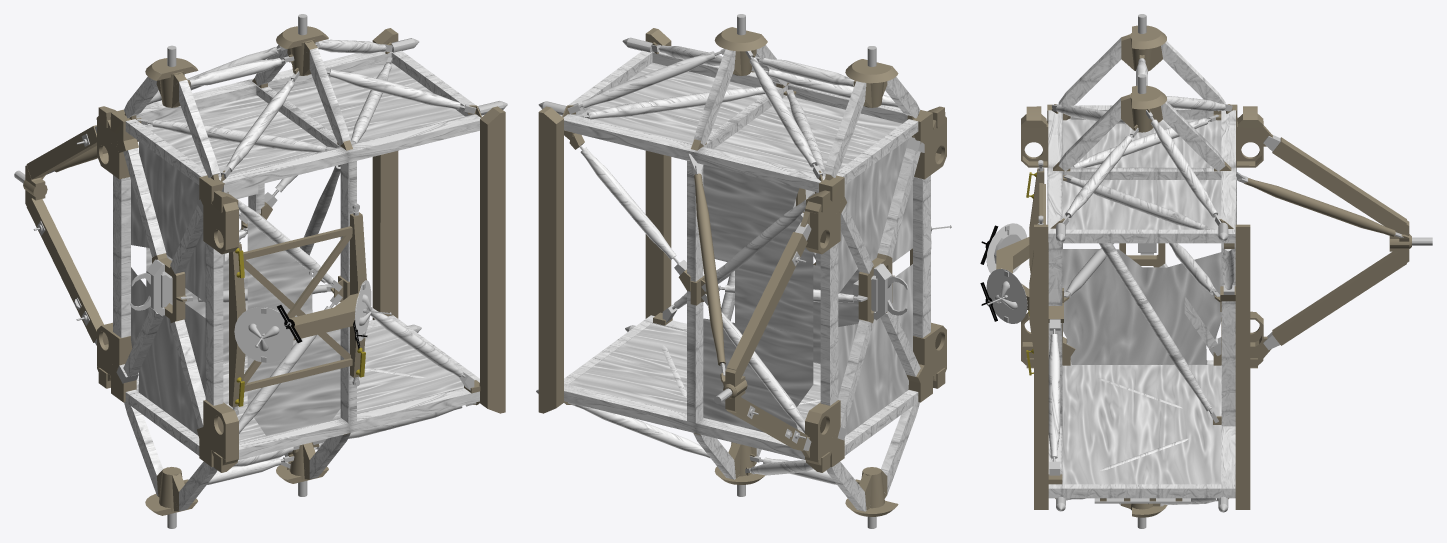
3 renders of one model, left to right at view 1: azimuth 30°, elevation 25°; view 2: azimuth 150°, elevation 25°; view 3: azimuth 270°, elevation 25°, orthographic. The views are drawn at different scales.
Visible parts, largest first — view 1: S5; view 2: S5; view 3: S5.
Boxes of the visible parts, box(x1,y1,x2,y2) form: S5: box(14, 14, 507, 528); S5: box(536, 14, 951, 528); S5: box(980, 14, 1432, 528).
Bounding box in the file's own units: 3.49 × 4.83 × 4.39.
Materials: 7 (3 with a texture image).
